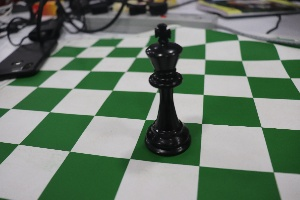black_king: (127, 8, 202, 169)
